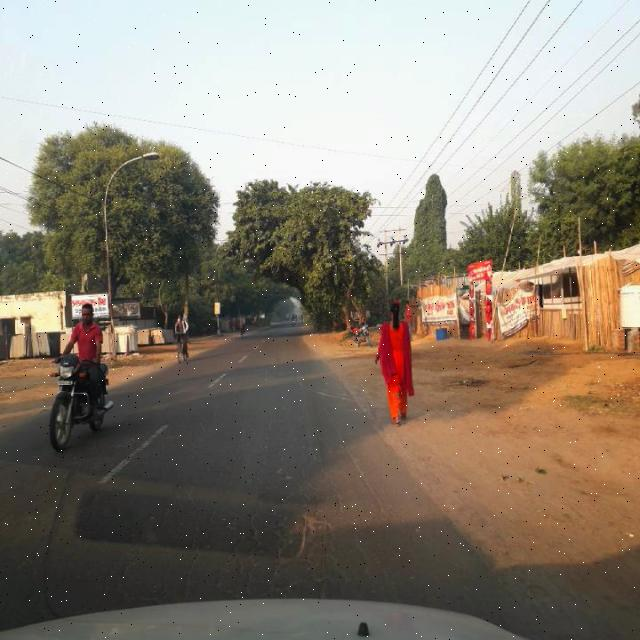D20: (104, 499, 394, 597)
D44: (97, 423, 173, 488)
